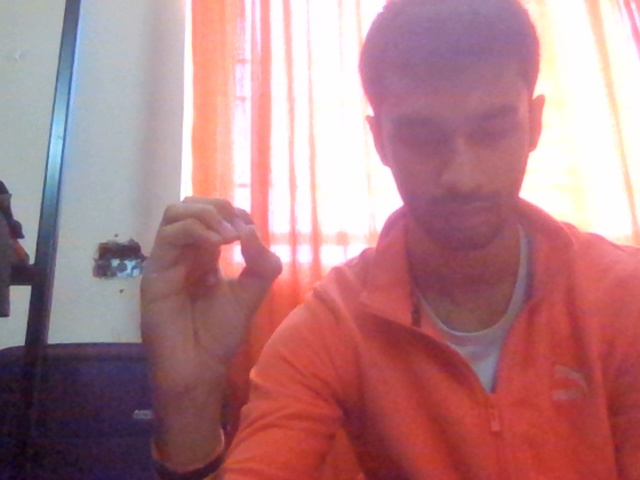O: (100, 134, 322, 403)
